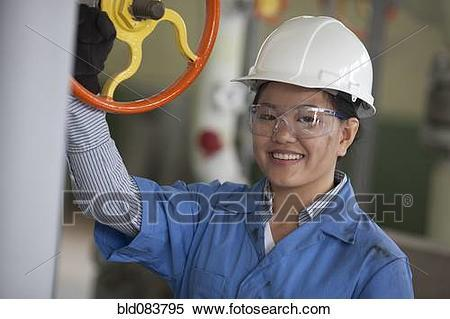helmet: (228, 15, 377, 121)
